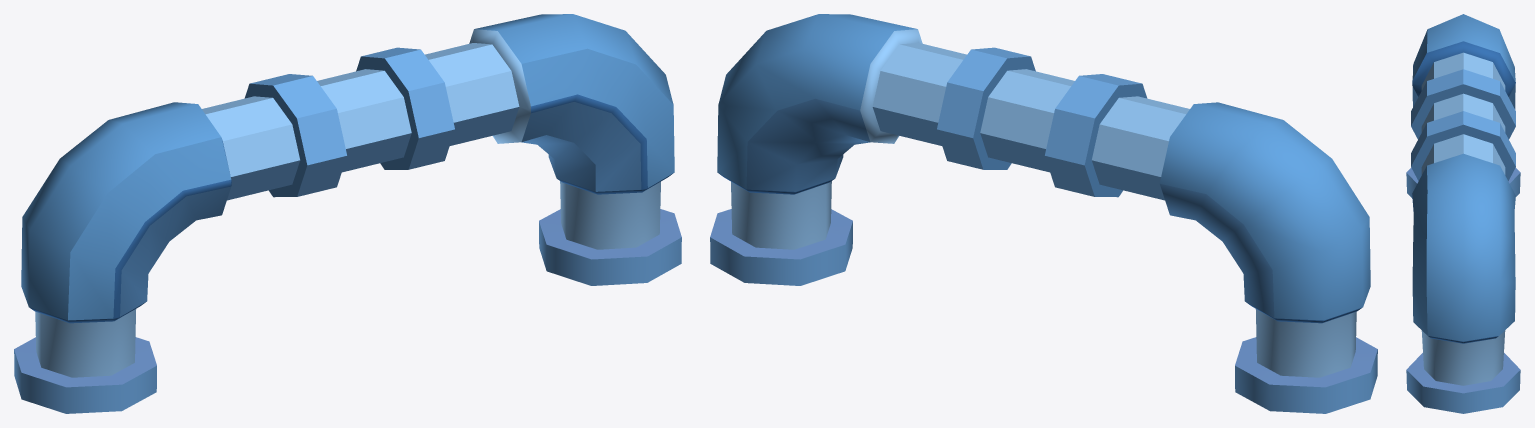
The model's file is decor2.fbx.
The picture shows the model from 3 angles, left to right: view 1: azimuth 30°, elevation 25°; view 2: azimuth 150°, elevation 25°; view 3: azimuth 270°, elevation 25°; orthographic projection. The views are drawn at different scales.
Parts seen in each view (by area): view 1: decor2; view 2: decor2; view 3: decor2.
Part boxes in pixels (x1,y1,x2,y2): decor2: (14, 14, 681, 413); decor2: (710, 14, 1377, 413); decor2: (1406, 14, 1520, 413).
Bounding box in the file's own units: 663 × 245 × 131.
